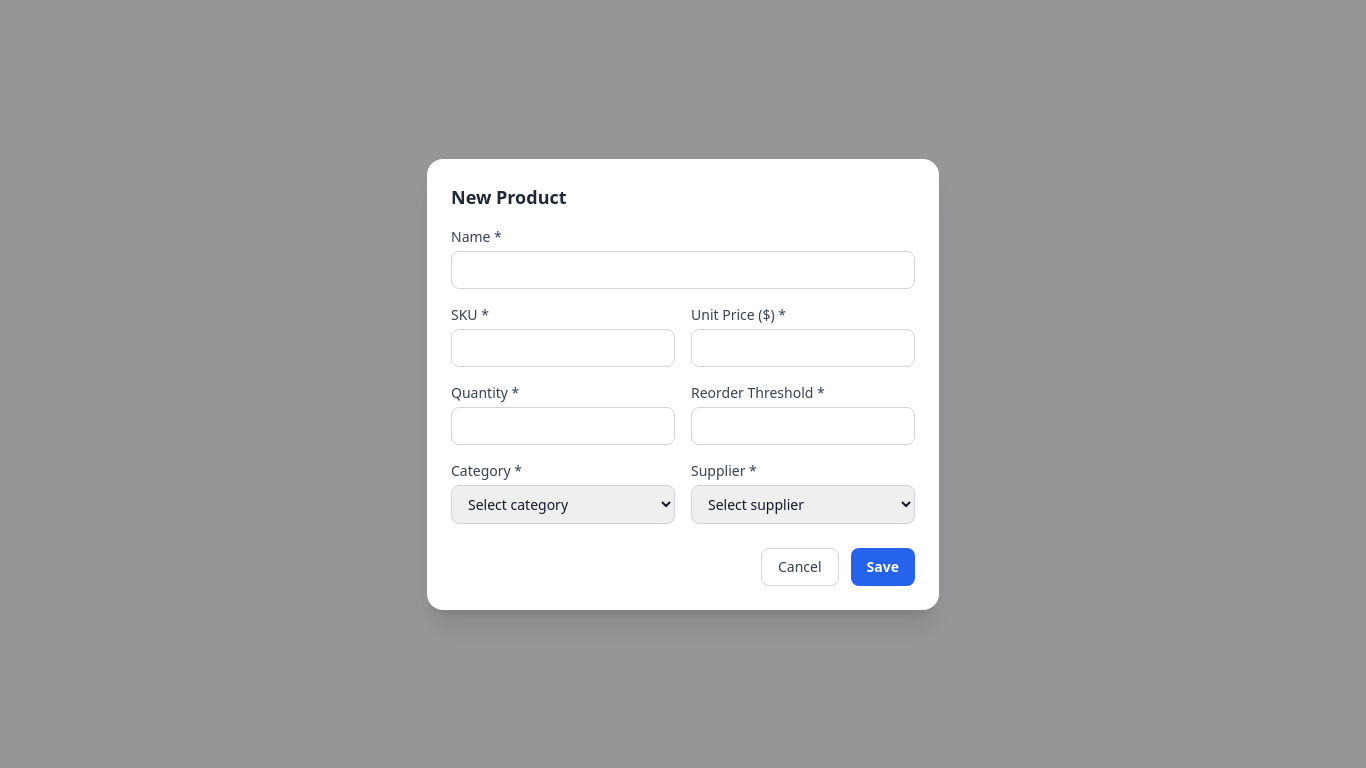
Test: ProductForm Validation › shows errors for all empty required fields
Click the button "Save". click: [883, 566]
box: [851, 548, 915, 586]
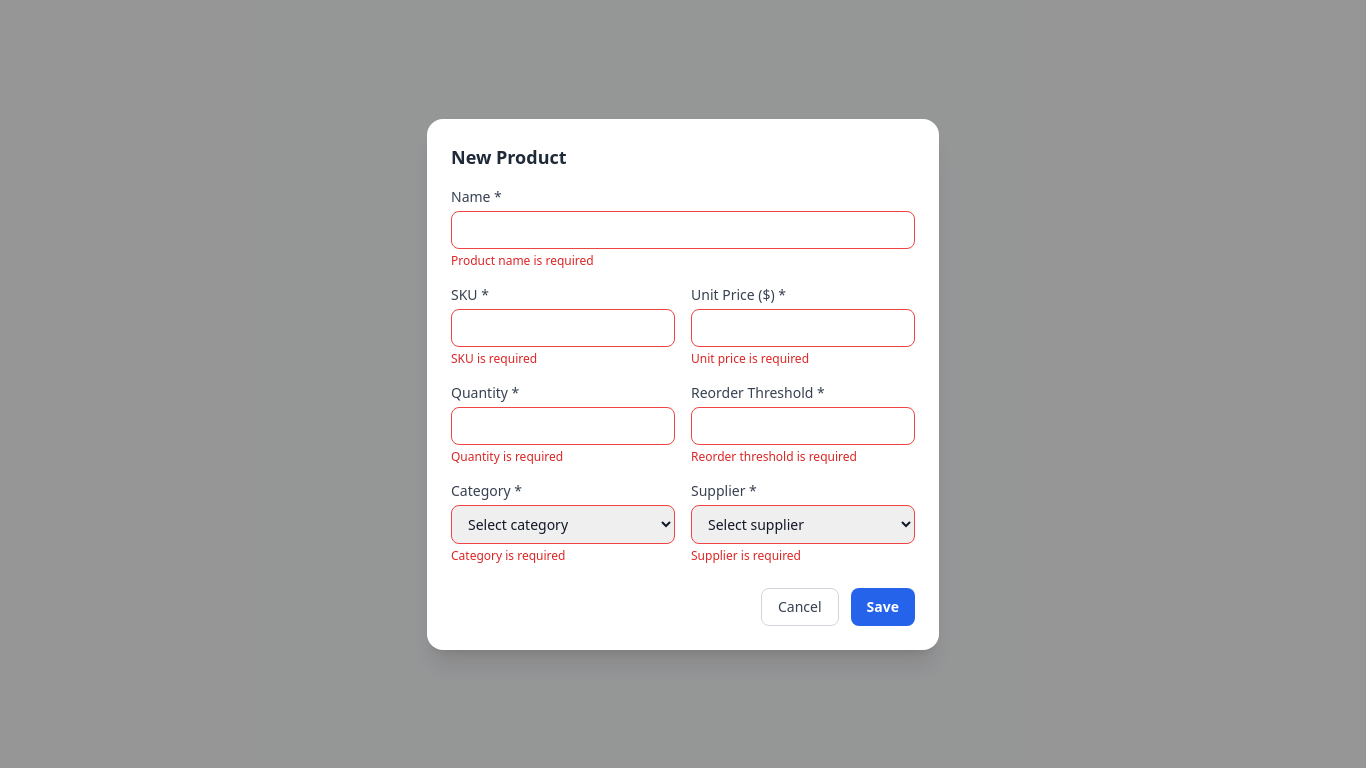
Now the text "Product name is required" is shown, box [451, 252, 594, 268]
Now the text "SKU is required" is shown, box [451, 350, 537, 366]
Now the text "Category is required" is shown, box [451, 546, 566, 564]
